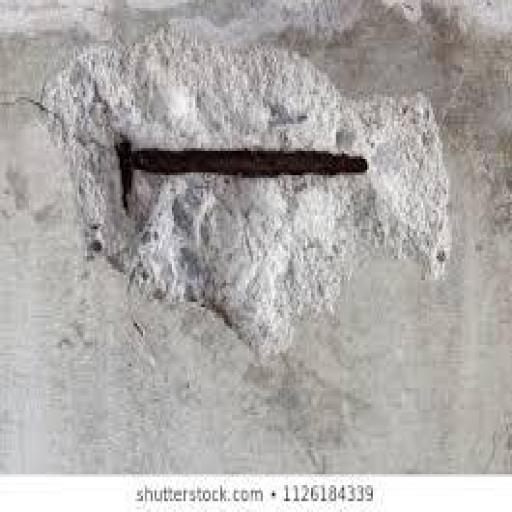spalling: (48, 29, 448, 347)
